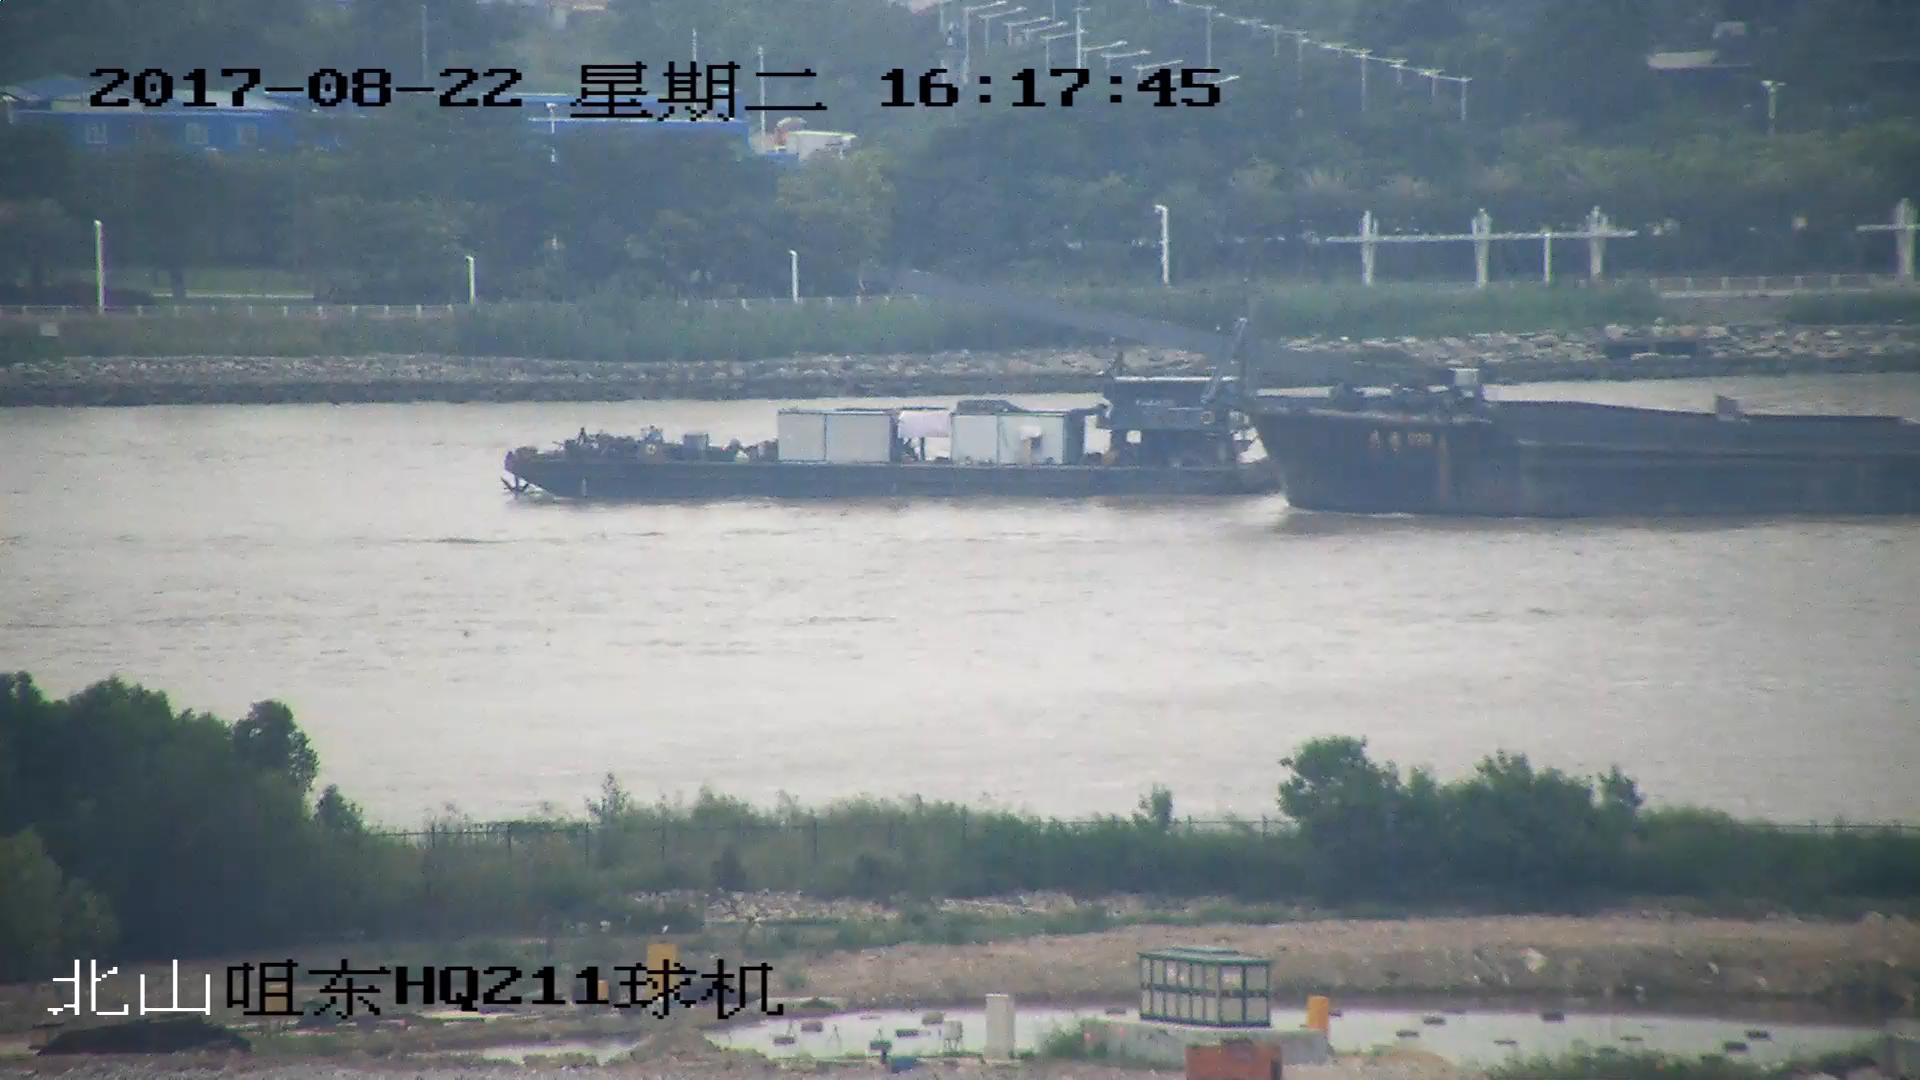Ship: (855, 258, 1920, 524), (502, 363, 1265, 502)
